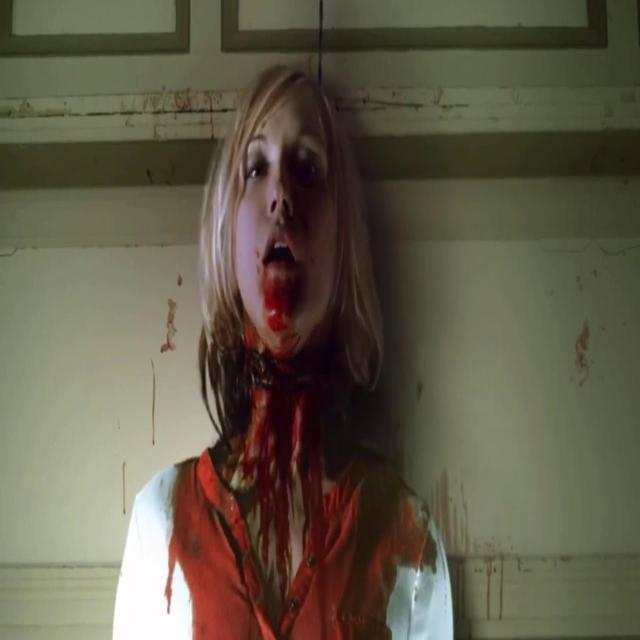flood: (161, 265, 422, 640)
